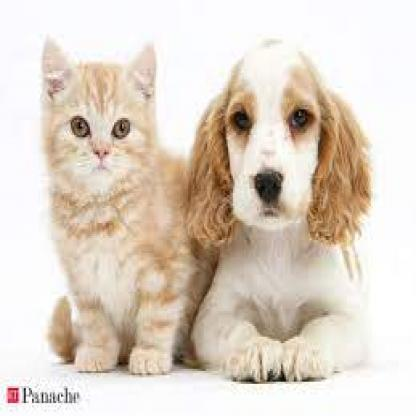cat: (22, 36, 184, 235)
dog: (198, 45, 377, 263)
